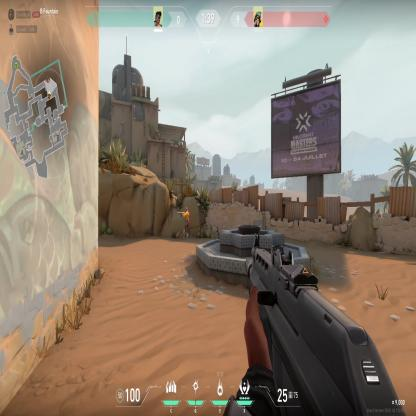enemy: (181, 206, 191, 240)
